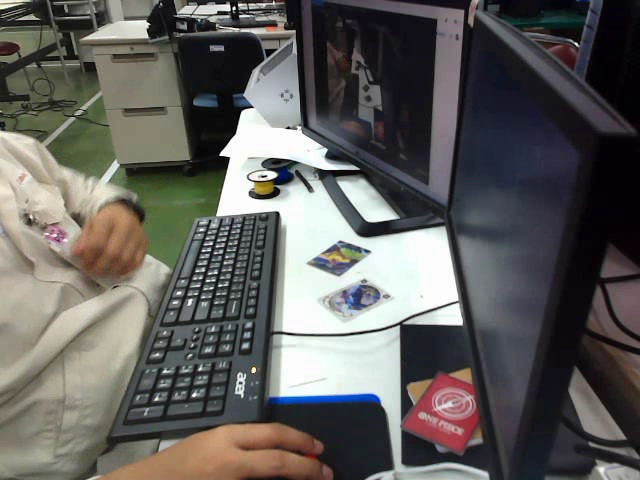can: (317, 276, 389, 320)
